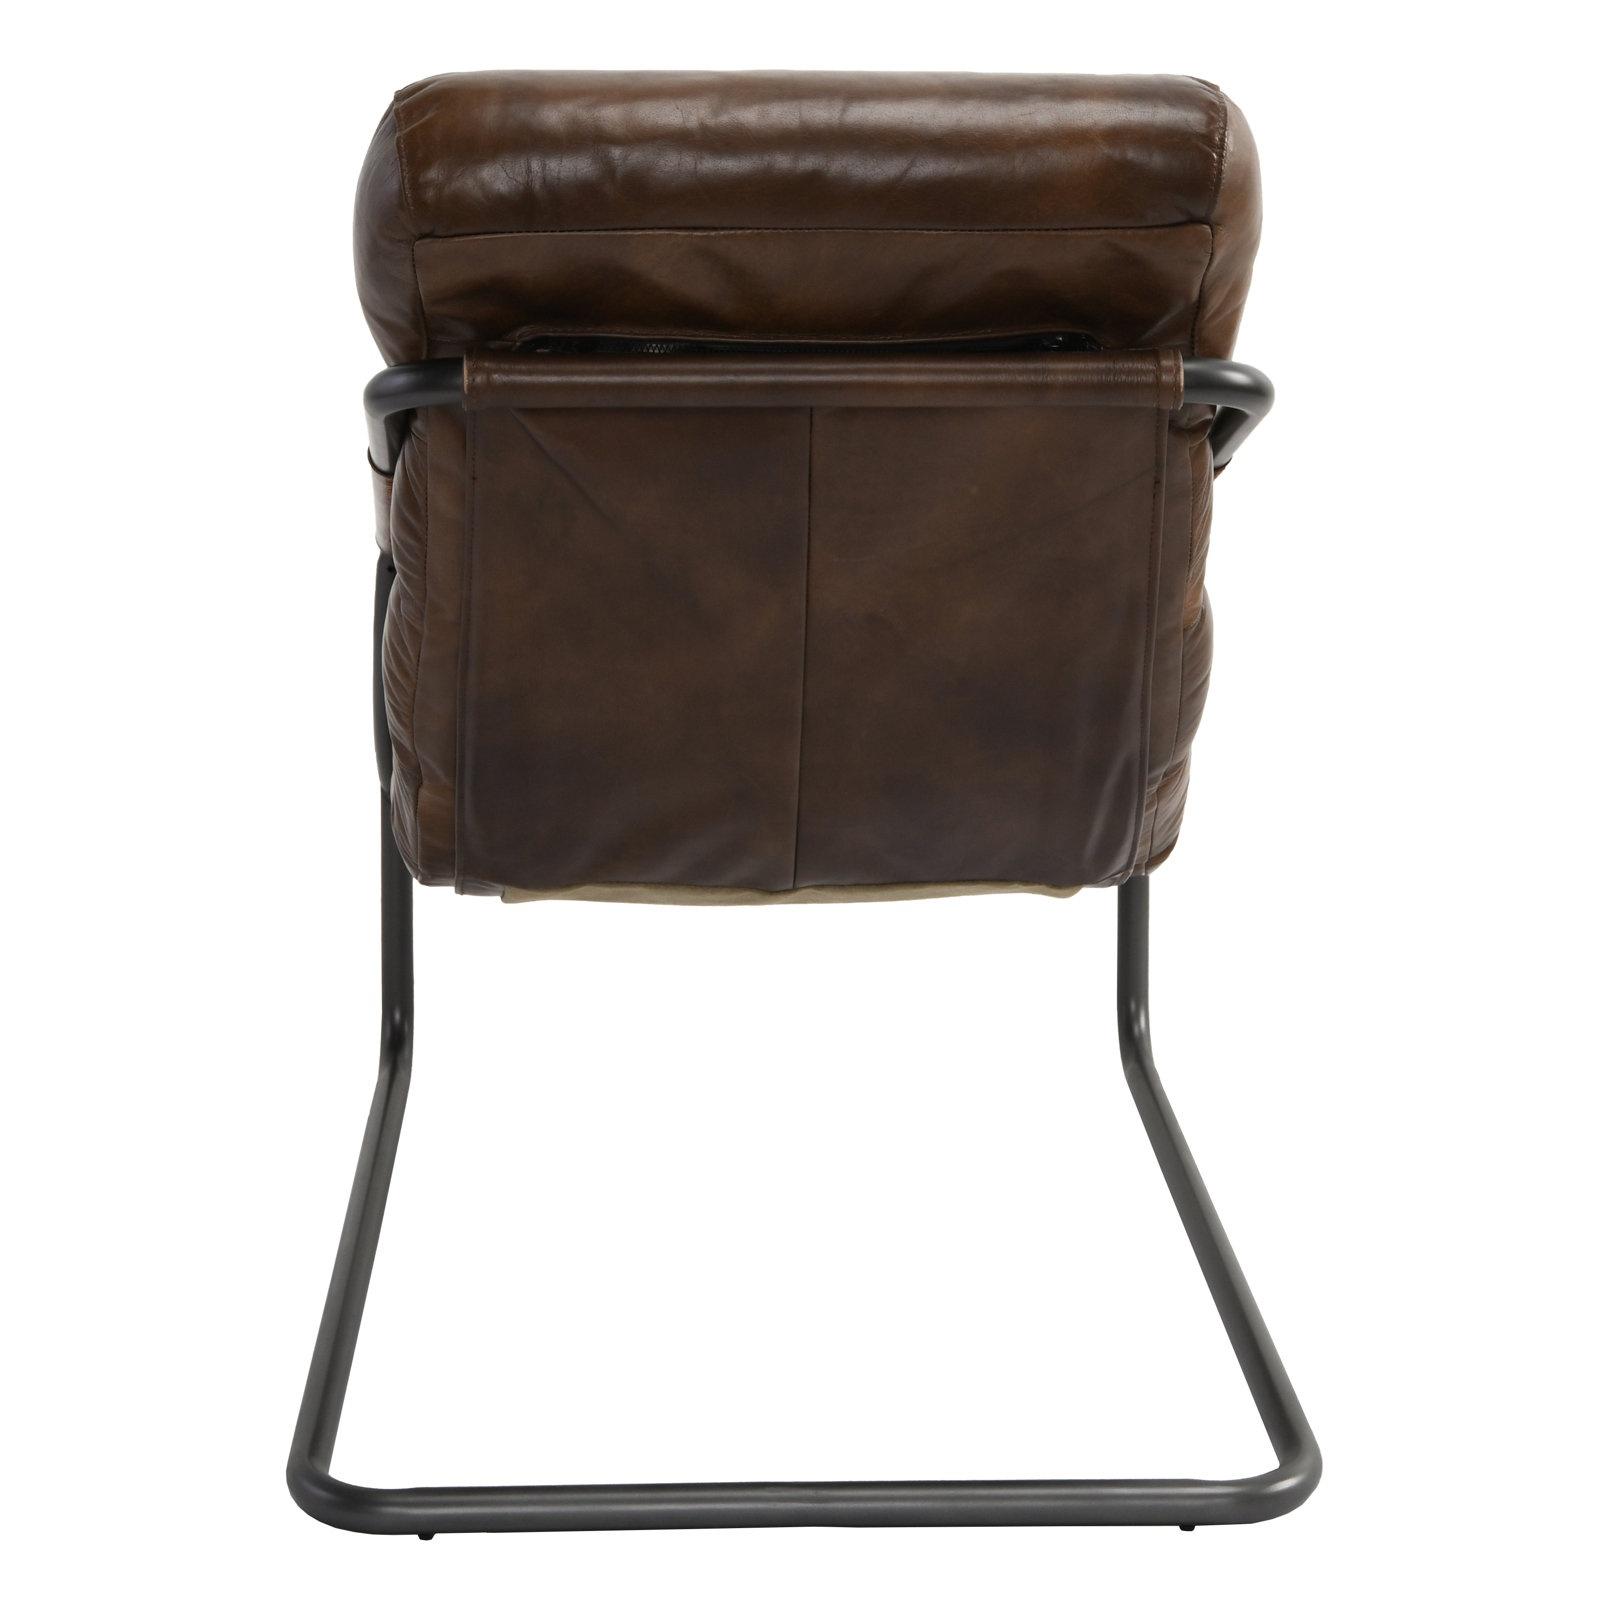obstacle: (289, 72, 1320, 1534)
